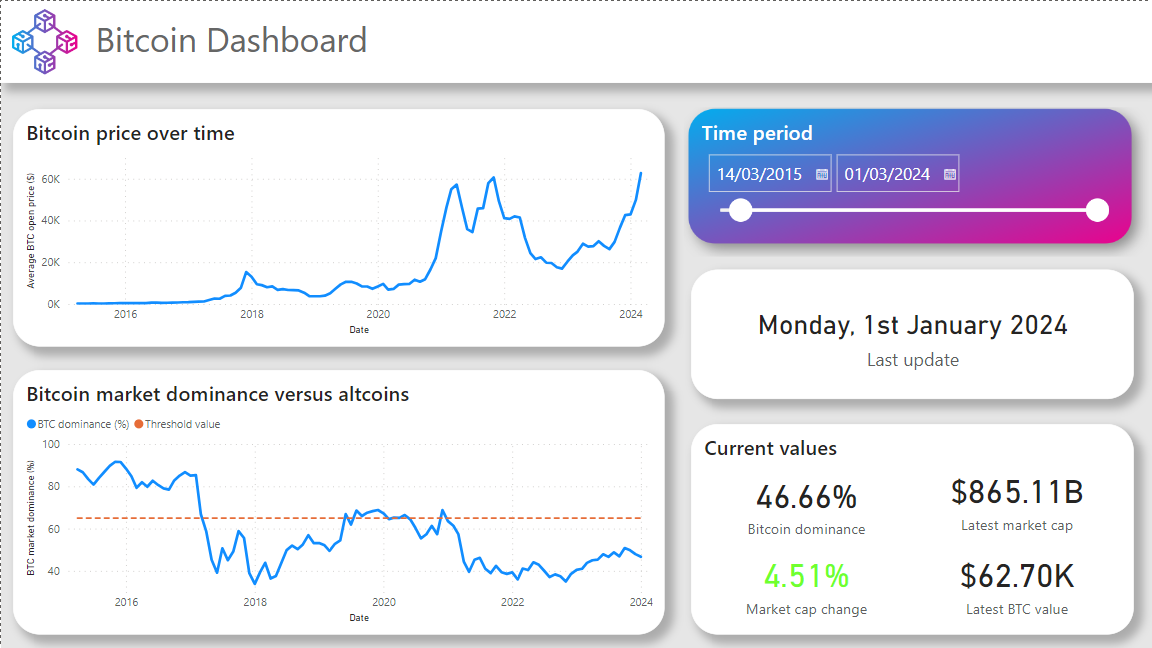

Layout of this report page (visuals, bound fields, positions):
{"tool":"powerbi","page":{"name":"Page 1","canvas":[1280,720],"ordinal":0},"visuals":[{"type":"shape","box":[0,0,1279.4,720],"z":0},{"type":"shape","box":[0,0,1279.4,90.7],"z":1000},{"type":"lineChart","title":"Bitcoin market dominance versus altcoins","fields":{"Y":["Sum(btc_dominance_data.btc_dominance)","Sum(btc_dominance_data.threshold_value)"],"Category":["btc_price_data_fixed.MonthYear"]},"box":[14,410,724,294],"z":2000},{"type":"image","box":[0,0,96.7,90],"z":3000},{"type":"textbox","box":[100,11.7,485,63.3],"z":4000},{"type":"image","box":[752.7,107,527.3,189.1],"z":5000},{"type":"lineChart","title":"Bitcoin price over time","fields":{"Y":["Sum(btc_price_data_fixed.avg_btc_price)"],"Category":["btc_price_data_fixed.MonthYear"]},"box":[14,120,724,264],"z":6000},{"type":"slicer","title":"Time period","fields":{"Values":["btc_price_data_fixed.MonthYear"]},"box":[774,130,466,136],"z":7000},{"type":"card","fields":{"Values":["btc_dominance_data.last_update"]},"box":[766,298,492,144],"z":8000},{"type":"card","title":"Current values","fields":{"Values":["Sum(btc_dominance_data.threshold_value)"]},"box":[766,470,492,234],"z":9000},{"type":"card","fields":{"Values":["btc_dominance_data.latest_dominance_stat"]},"box":[792,509,206,98],"z":10000},{"type":"card","fields":{"Values":["btc_marketcap_data.LatestMarketCap"]},"box":[1011,499,234,108],"z":11000},{"type":"card","fields":{"Values":["btc_marketcap_data.MarketCapChangePercent"]},"box":[792,596,206,98],"z":12000},{"type":"card","fields":{"Values":["btc_price_data_fixed.LatestCoinValue"]},"box":[1016,596,224,98],"z":13000}]}

Visuals, with their boxes in screenshot pixels (x1, y1, x2, y2), scaled from the page's 1280x720 canvas onto the 1152x648 screenshot:
shape: [0,0,1151,647]
shape: [0,0,1151,82]
"Bitcoin market dominance versus altcoins" lineChart: [13,369,664,634]
image: [0,0,87,81]
textbox: [90,11,526,68]
image: [677,96,1151,266]
"Bitcoin price over time" lineChart: [13,108,664,346]
"Time period" slicer: [697,117,1116,239]
card - btc_dominance_data.last_update: [689,268,1132,398]
"Current values" card: [689,423,1132,634]
card - btc_dominance_data.latest_dominance_stat: [713,458,898,546]
card - btc_marketcap_data.LatestMarketCap: [910,449,1120,546]
card - btc_marketcap_data.MarketCapChangePercent: [713,536,898,625]
card - btc_price_data_fixed.LatestCoinValue: [914,536,1116,625]
